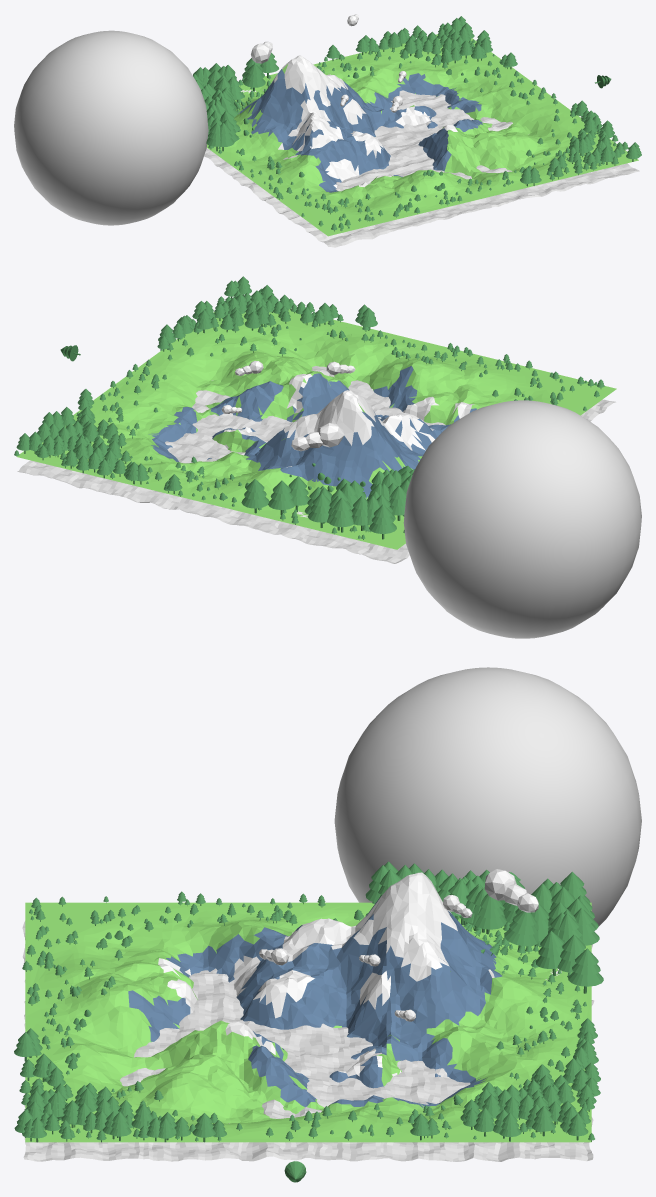
File: Landscape Papua.fbx
The picture shows the model from 3 angles, top to bottom: view 1: azimuth 30°, elevation 25°; view 2: azimuth 150°, elevation 25°; view 3: azimuth 270°, elevation 25°; orthographic projection. The views are drawn at different scales.
Parts seen in each view (by area): view 1: Landscape.002, Sphere, Landscape_plane.002, Landscape.002|Cone.002|Dupli|40.2, Sphere.003; view 2: Landscape.002, Sphere, Landscape_plane.002, Sphere.003, Landscape.002|Cone.002|Dupli|15.2, Landscape.002|Cone.002|Dupli|41.2, Landscape.002|Cone.002|Dupli|25.2, Landscape.002|Cone.002|Dupli|22.2; view 3: Landscape.002, Sphere, Landscape_plane.002, Sphere.003, Landscape.002|Cone.002|Dupli|41.2, Landscape.002|Cone.002|Dupli|39.2, Landscape.002|Cone.002|Dupli|37.2, Landscape.002|Cone.002|Dupli|40.2.
Part boxes in pixels (<box>): Landscape.002: <box>207,34,638,236</box>; Sphere: <box>14,30,208,225</box>; Landscape_plane.002: <box>204,90,639,247</box>; Landscape.002|Cone.002|Dupli|40.2: <box>243,63,265,91</box>; Sphere.003: <box>251,41,272,63</box>; Landscape.002: <box>17,309,616,549</box>; Sphere: <box>403,400,641,638</box>; Landscape_plane.002: <box>17,366,615,563</box>; Sphere.003: <box>291,423,344,451</box>; Landscape.002|Cone.002|Dupli|15.2: <box>369,504,396,539</box>; Landscape.002|Cone.002|Dupli|41.2: <box>241,479,269,513</box>; Landscape.002|Cone.002|Dupli|25.2: <box>268,480,294,514</box>; Landscape.002|Cone.002|Dupli|22.2: <box>329,497,353,532</box>; Landscape.002: <box>25,872,591,1142</box>; Sphere: <box>334,667,641,926</box>; Landscape_plane.002: <box>22,921,594,1161</box>; Sphere.003: <box>484,869,538,912</box>; Landscape.002|Cone.002|Dupli|41.2: <box>568,948,603,993</box>; Landscape.002|Cone.002|Dupli|39.2: <box>504,911,538,949</box>; Landscape.002|Cone.002|Dupli|37.2: <box>474,894,506,934</box>; Landscape.002|Cone.002|Dupli|40.2: <box>535,931,563,975</box>.
Bounding box in the file's own units: 336 × 109 × 222.
